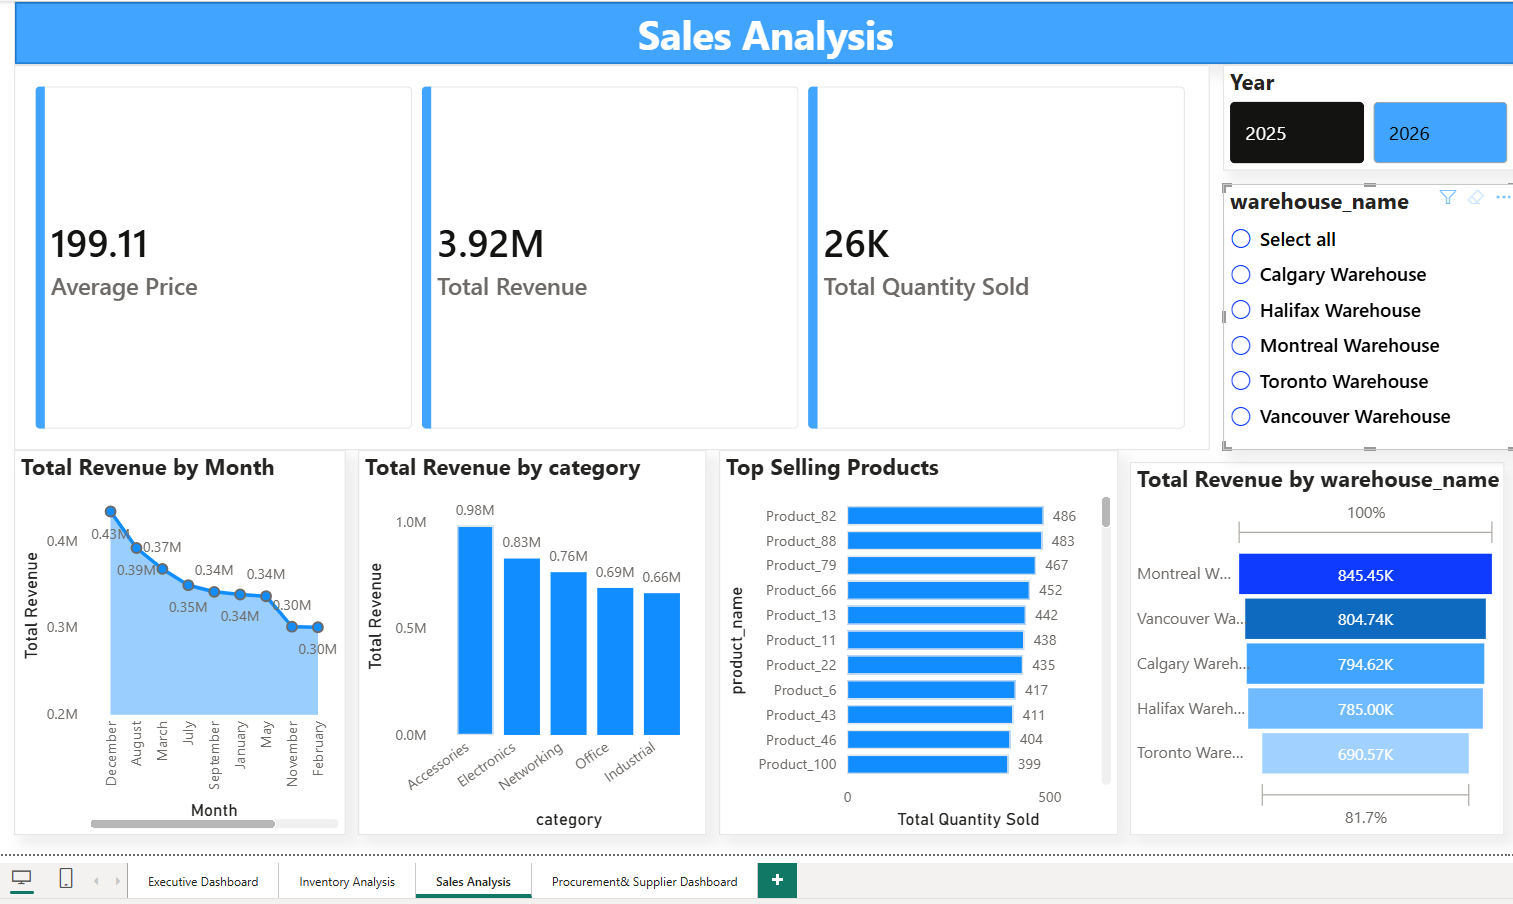

Layout of this report page (visuals, bound fields, positions):
{"tool":"powerbi","page":{"name":"Sales Analysis","canvas":[1280,720],"ordinal":2},"visuals":[{"type":"lineChart","fields":{"Category":["Date.Month"],"Y":["Date.Total Revenue"]},"box":[11.7,379,279.9,325.1],"z":0},{"type":"clusteredColumnChart","fields":{"Y":["Date.Total Revenue"],"Category":["products.category"]},"box":[301.8,379,294.5,325.1],"z":1},{"type":"clusteredBarChart","title":"Top Selling Products","fields":{"Category":["products.product_name"],"Y":["Date.Total Quantity Sold"]},"box":[606.5,379,336.8,325.1],"z":2},{"type":"funnel","fields":{"Category":["warehouses.warehouse_name"],"Y":["Date.Total Revenue"]},"box":[953.4,389.2,316.4,314.9],"z":3},{"type":"shape","box":[11.7,0,1268.3,53.9],"z":4},{"type":"advancedSlicerVisual","fields":{"Values":["Date.Year"]},"box":[1032.2,53.9,247.8,88.9],"z":5},{"type":"listSlicer","fields":{"Values":["warehouses.warehouse_name"]},"box":[1032.2,154.5,247.8,224.5],"z":6},{"type":"cardVisual","fields":{"Data":["Date.Average Price","Date.Total Revenue","Date.Total Quantity Sold"]},"box":[11.7,53.9,1008.8,325.1],"z":7}]}

Visuals, with their boxes on the page's 1280x720 design canvas (x1, y1, x2, y2). These are canvas units, not pixel positions in the 1513x904 screenshot, which may show the page scaled, cropped or inside an application window:
lineChart - Date.Month x Date.Total Revenue: l=12, t=379, r=292, b=704
clusteredColumnChart - Date.Total Revenue x products.category: l=302, t=379, r=596, b=704
"Top Selling Products" clusteredBarChart: l=606, t=379, r=943, b=704
funnel - warehouses.warehouse_name x Date.Total Revenue: l=953, t=389, r=1270, b=704
shape: l=12, t=0, r=1280, b=54
advancedSlicerVisual - Date.Year: l=1032, t=54, r=1280, b=143
listSlicer - warehouses.warehouse_name: l=1032, t=154, r=1280, b=379
cardVisual - Date.Average Price x Date.Total Revenue: l=12, t=54, r=1020, b=379
